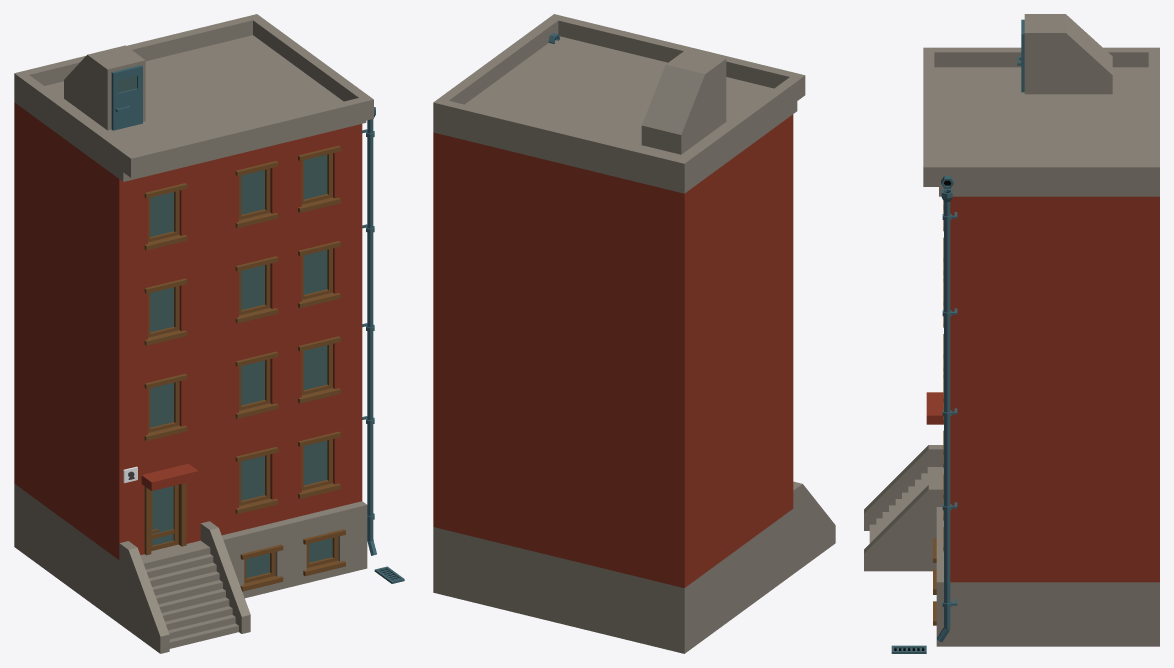
Rendered from Building #5.fbx.
3 views of the same model, side by side, from view 1: azimuth 30°, elevation 25°; view 2: azimuth 150°, elevation 25°; view 3: azimuth 270°, elevation 25° (orthographic). The views are drawn at different scales.
Parts seen in each view (by area): view 1: Box15819; view 2: Box15819; view 3: Box15819.
Boxes of the visible parts, x1,y1,x2,y2 form: Box15819: [14, 14, 404, 653]; Box15819: [433, 14, 835, 653]; Box15819: [864, 14, 1159, 653].
Bounding box in the file's own units: 850 × 1636 × 834.
